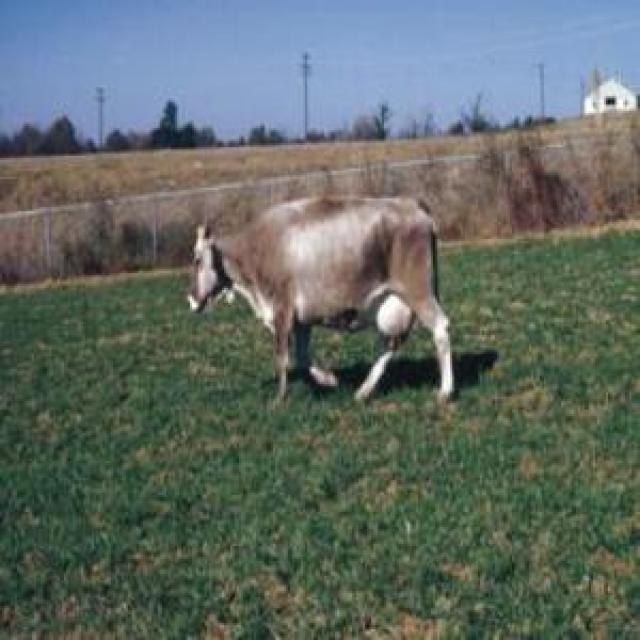not_pig: (183, 192, 454, 407)
